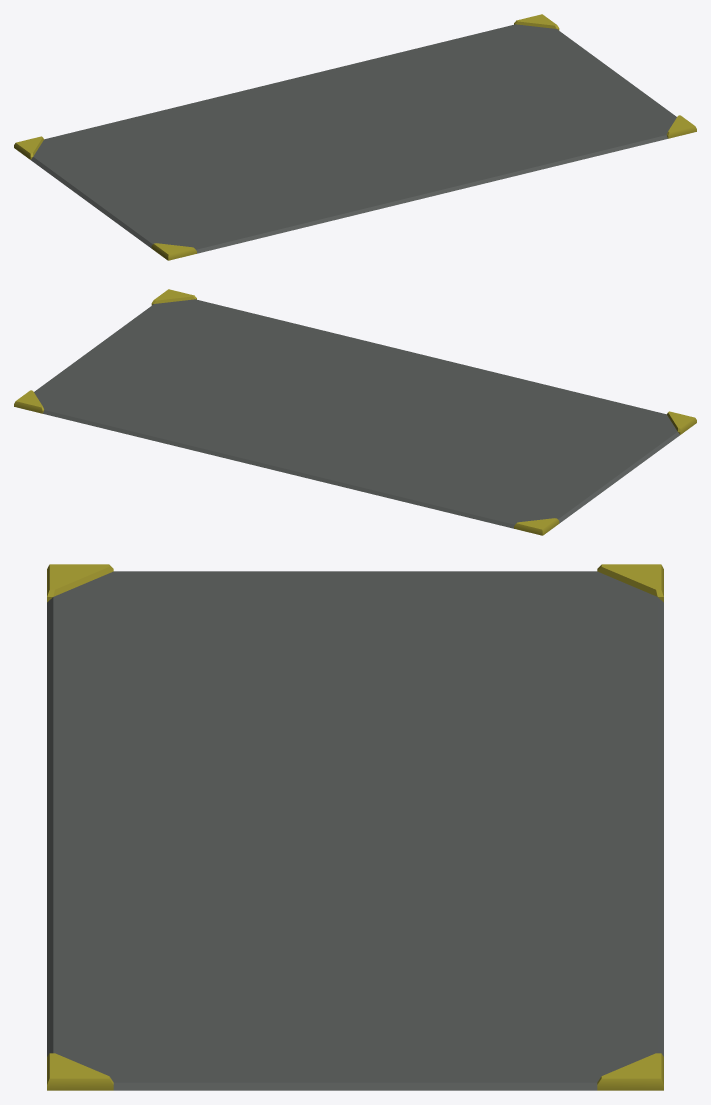
Rendered from tapeteModel.fbx.
3 renders of one model, top to bottom at view 1: azimuth 30°, elevation 25°; view 2: azimuth 150°, elevation 25°; view 3: azimuth 270°, elevation 25°, orthographic. The views are drawn at different scales.
Visible parts, largest first — view 1: pCube1; view 2: pCube1; view 3: pCube1.
Boxes of the visible parts, <box> form: pCube1: <box>14,14,696,260</box>; pCube1: <box>14,289,696,535</box>; pCube1: <box>47,564,663,1090</box>.
Size of the model in its own units: 2.02 by 0.02 by 1.02.
